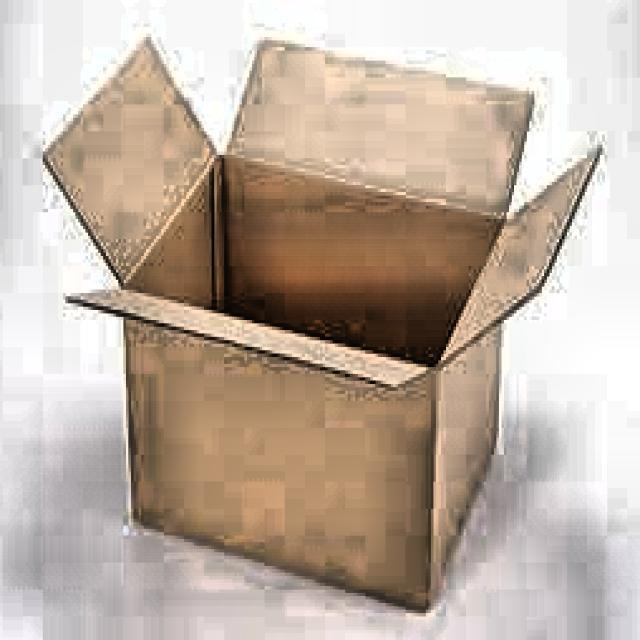cardboard: (45, 30, 605, 610)
